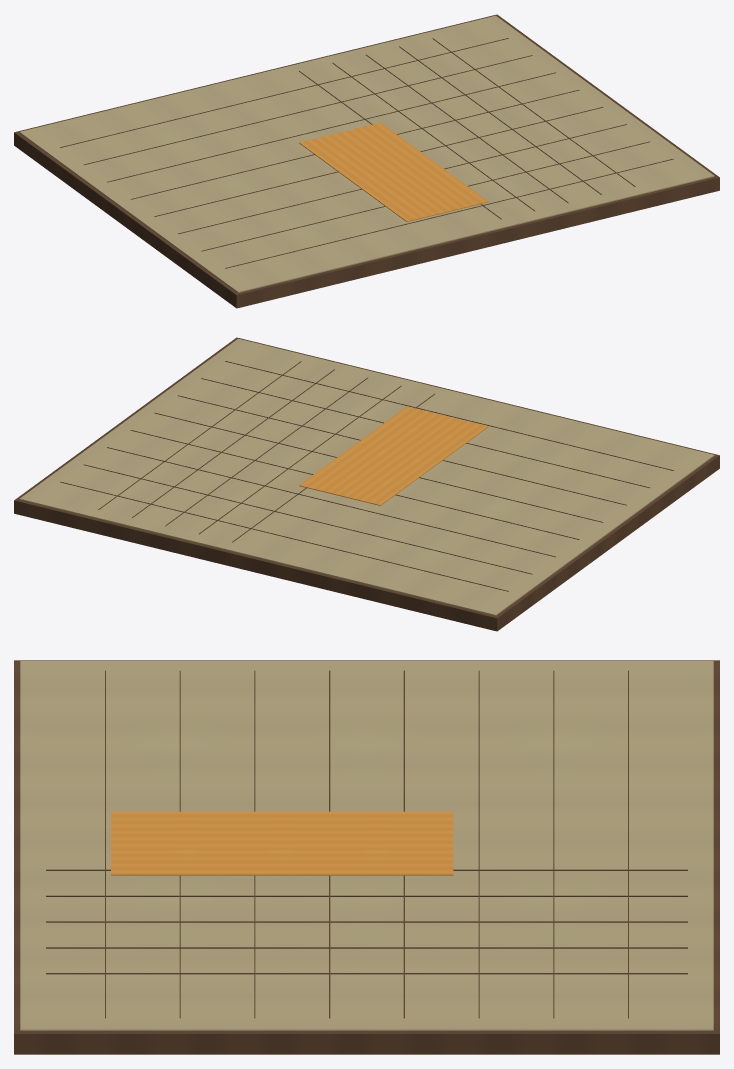
The model's file is atlas100-s014-a07.lod2.glb.
3 renders of one model, top to bottom at view 1: azimuth 30°, elevation 25°; view 2: azimuth 150°, elevation 25°; view 3: azimuth 270°, elevation 25°, orthographic. The views are drawn at different scales.
Parts seen in each view (by area): view 1: atlas100-s014-a07:part-001, atlas100-s014-a07:part-000, atlas100-s014-a07:part-021, atlas100-s014-a07:part-014, atlas100-s014-a07:part-013, atlas100-s014-a07:part-015, atlas100-s014-a07:part-020, atlas100-s014-a07:part-017, atlas100-s014-a07:part-019, atlas100-s014-a07:part-016, atlas100-s014-a07:part-018; view 2: atlas100-s014-a07:part-001, atlas100-s014-a07:part-000, atlas100-s014-a07:part-021, atlas100-s014-a07:part-014, atlas100-s014-a07:part-013, atlas100-s014-a07:part-020, atlas100-s014-a07:part-015, atlas100-s014-a07:part-016, atlas100-s014-a07:part-019, atlas100-s014-a07:part-017, atlas100-s014-a07:part-018; view 3: atlas100-s014-a07:part-001, atlas100-s014-a07:part-000, atlas100-s014-a07:part-021, atlas100-s014-a07:part-009, atlas100-s014-a07:part-010, atlas100-s014-a07:part-011, atlas100-s014-a07:part-012, atlas100-s014-a07:part-014, atlas100-s014-a07:part-015.
Boxes of the visible parts, <box> form: atlas100-s014-a07:part-001: <box>19,15,714,292</box>; atlas100-s014-a07:part-000: <box>14,14,719,308</box>; atlas100-s014-a07:part-021: <box>299,122,488,221</box>; atlas100-s014-a07:part-014: <box>84,55,532,164</box>; atlas100-s014-a07:part-013: <box>60,38,508,147</box>; atlas100-s014-a07:part-015: <box>107,72,555,182</box>; atlas100-s014-a07:part-020: <box>225,158,673,268</box>; atlas100-s014-a07:part-017: <box>154,107,603,216</box>; atlas100-s014-a07:part-019: <box>201,141,650,251</box>; atlas100-s014-a07:part-016: <box>130,89,579,199</box>; atlas100-s014-a07:part-018: <box>178,124,626,234</box>; atlas100-s014-a07:part-001: <box>19,338,714,615</box>; atlas100-s014-a07:part-000: <box>14,337,719,631</box>; atlas100-s014-a07:part-021: <box>299,406,488,505</box>; atlas100-s014-a07:part-014: <box>83,464,532,574</box>; atlas100-s014-a07:part-013: <box>60,481,508,591</box>; atlas100-s014-a07:part-020: <box>225,361,673,470</box>; atlas100-s014-a07:part-015: <box>107,447,555,557</box>; atlas100-s014-a07:part-016: <box>130,430,579,539</box>; atlas100-s014-a07:part-019: <box>201,378,649,487</box>; atlas100-s014-a07:part-017: <box>154,412,603,522</box>; atlas100-s014-a07:part-018: <box>178,395,626,505</box>; atlas100-s014-a07:part-001: <box>20,661,713,1030</box>; atlas100-s014-a07:part-000: <box>14,660,719,1054</box>; atlas100-s014-a07:part-021: <box>111,811,453,875</box>; atlas100-s014-a07:part-009: <box>46,895,687,896</box>; atlas100-s014-a07:part-010: <box>46,921,687,922</box>; atlas100-s014-a07:part-011: <box>46,947,687,948</box>; atlas100-s014-a07:part-012: <box>46,973,687,974</box>; atlas100-s014-a07:part-014: <box>553,670,554,1018</box>; atlas100-s014-a07:part-015: <box>478,670,479,1018</box>.
Bounding box in the file's own units: 13.02 × 0.404 × 10.4.
3 materials, 3 textured.
